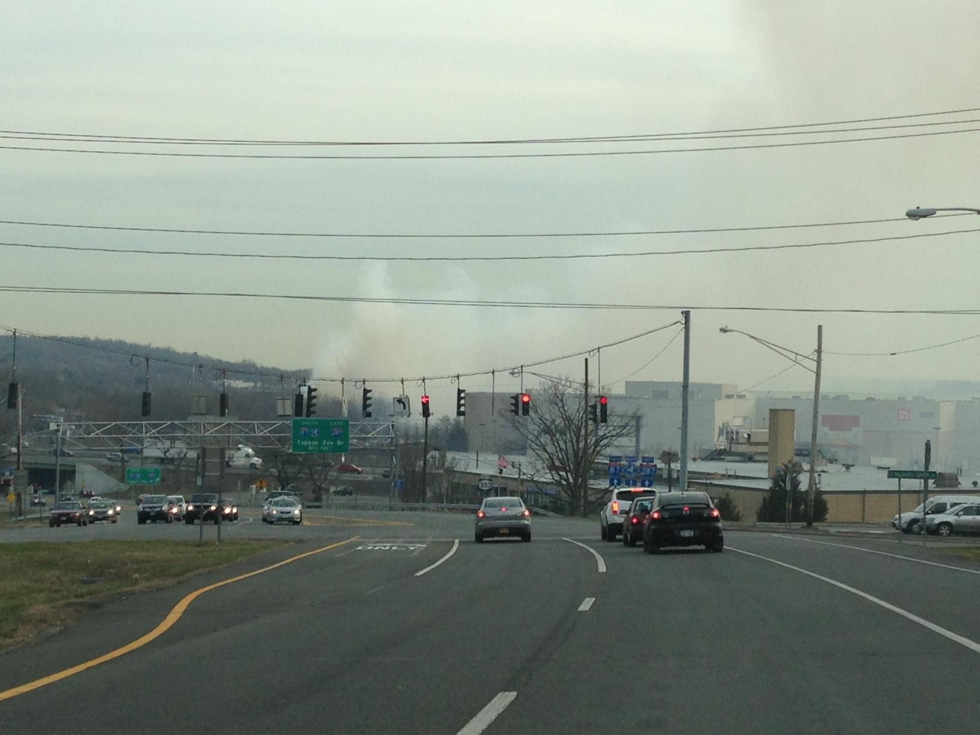bus: (140, 437, 204, 467)
car: (641, 491, 726, 555), (890, 494, 980, 537), (596, 486, 663, 542), (470, 496, 534, 543), (619, 495, 674, 548), (918, 500, 980, 536), (183, 492, 222, 525), (217, 444, 265, 470), (135, 494, 174, 524), (48, 500, 89, 528), (266, 496, 303, 525), (264, 490, 304, 516), (85, 500, 118, 524), (153, 497, 184, 522), (262, 498, 292, 523), (163, 494, 190, 521), (208, 499, 237, 524), (48, 445, 74, 459), (335, 462, 363, 475), (105, 452, 131, 464), (118, 443, 142, 454), (133, 493, 152, 506), (28, 494, 47, 507), (78, 488, 96, 500)
